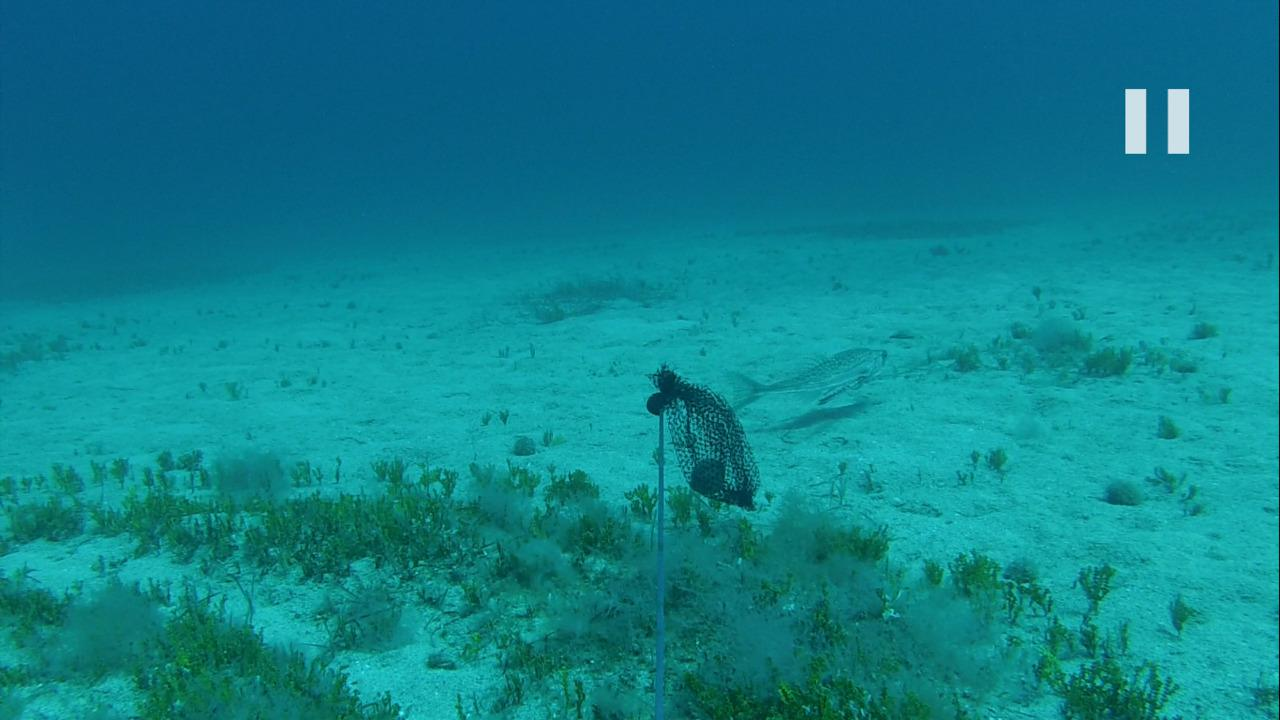dactylopterus: (725, 341, 892, 409)
